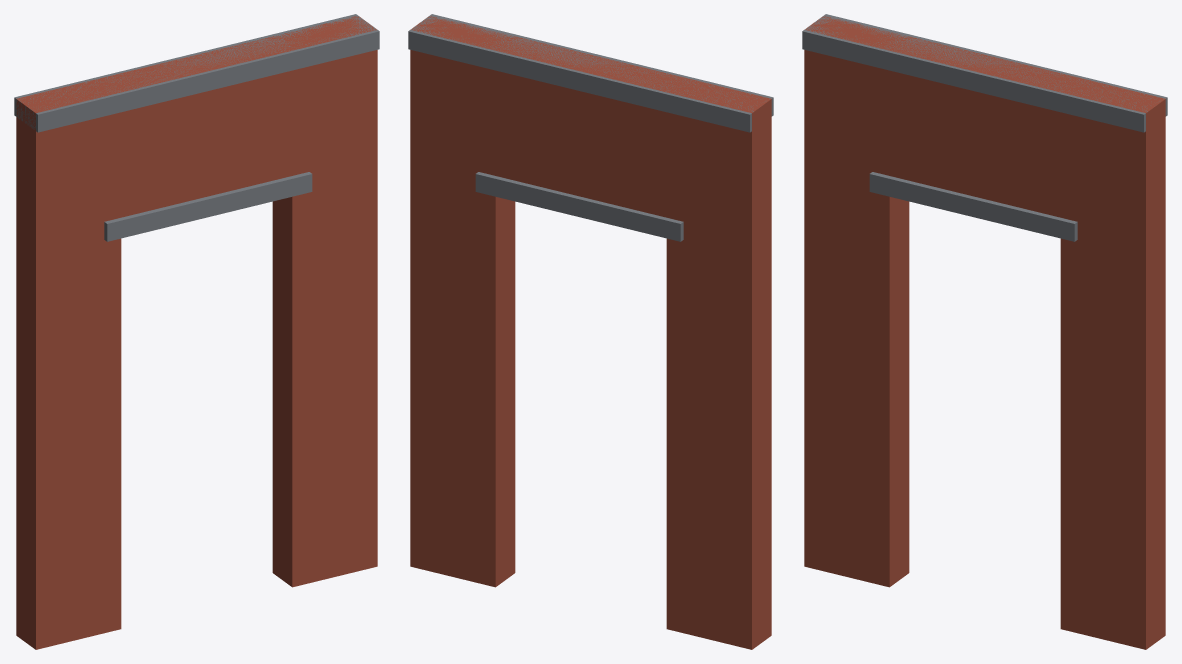
The model's file is wall_brick_doorway.glb.
The picture shows the model from 3 angles, left to right: view 1: azimuth 30°, elevation 25°; view 2: azimuth 150°, elevation 25°; view 3: azimuth 330°, elevation 25°; orthographic projection.
Parts seen in each view (by area): view 1: wall_brick_doorway; view 2: wall_brick_doorway; view 3: wall_brick_doorway.
Part boxes in pixels (<box>): wall_brick_doorway: <box>14,14,379,649</box>; wall_brick_doorway: <box>408,14,773,649</box>; wall_brick_doorway: <box>802,14,1167,649</box>.
Bounding box in the file's own units: 2 × 3 × 0.26.
